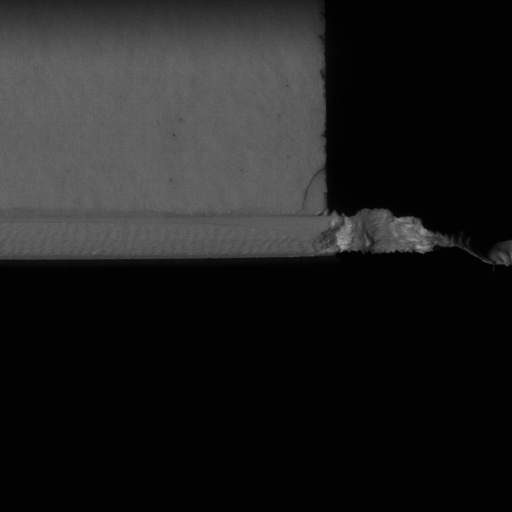changdai: (325, 210, 511, 271)
